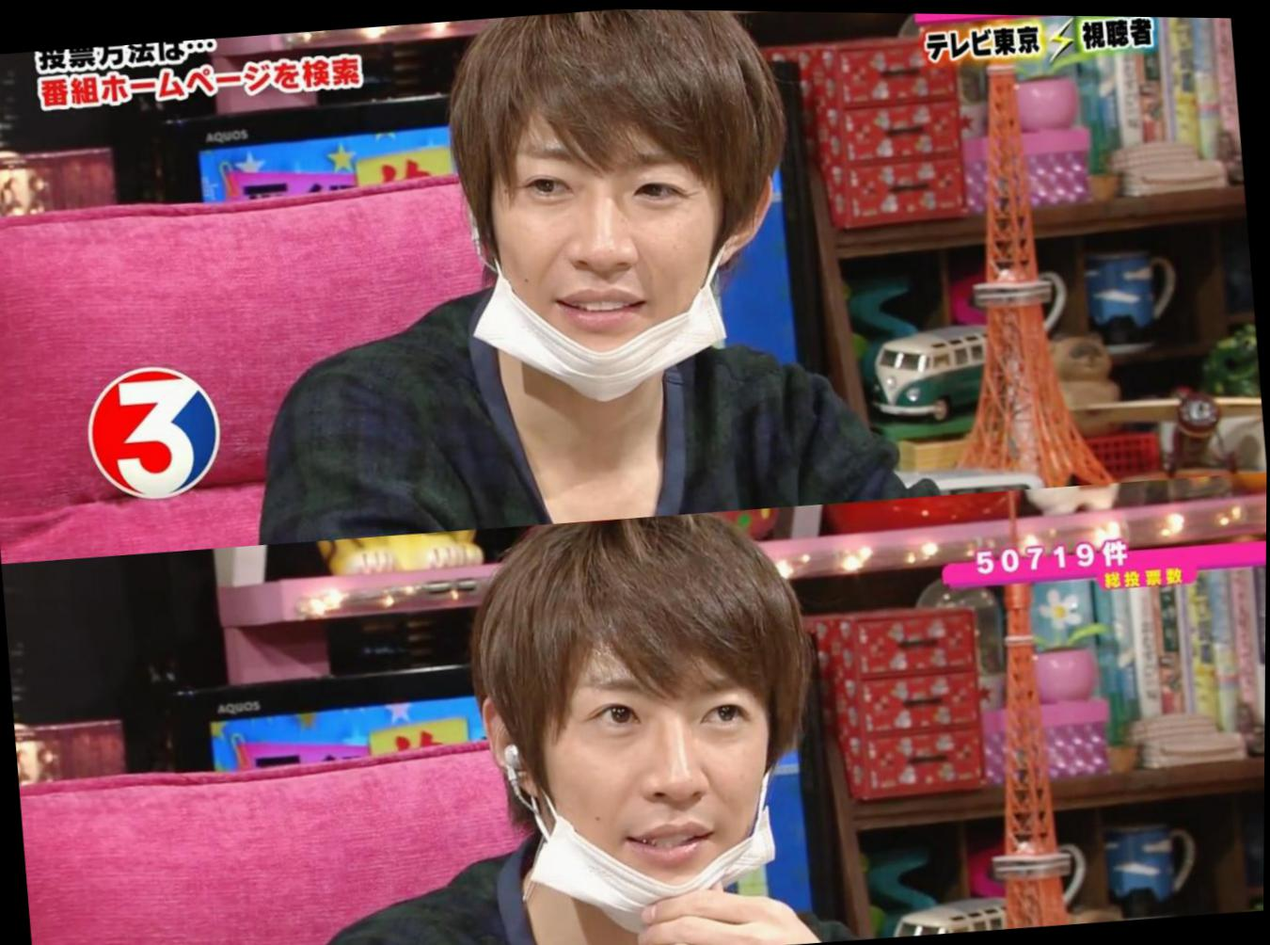WRONG: (462, 121, 736, 397), (529, 668, 794, 935)
